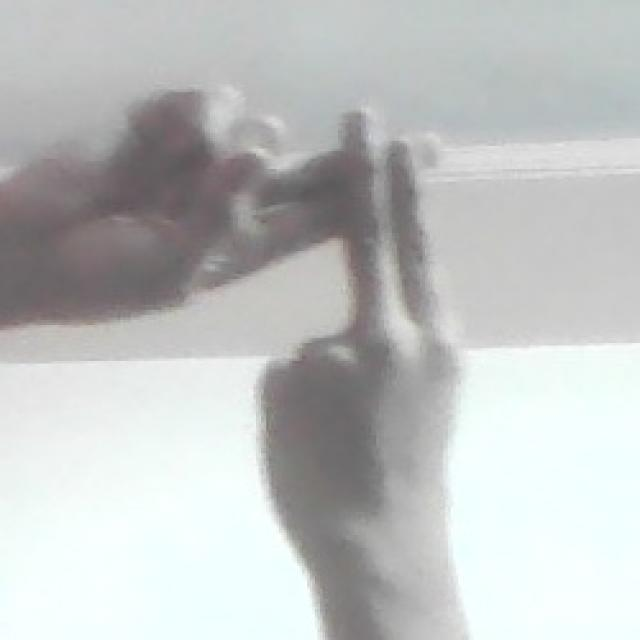Alphabet-F: (11, 78, 468, 550)
